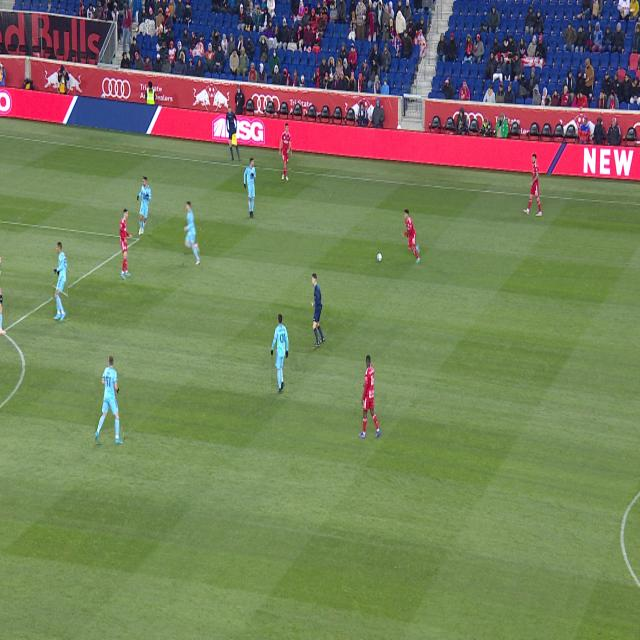football: (376, 253, 382, 261)
player: (96, 357, 123, 444), (359, 356, 381, 438), (271, 314, 289, 393), (523, 153, 542, 216), (54, 243, 68, 322), (184, 201, 200, 265), (402, 210, 420, 264), (137, 177, 152, 235), (120, 209, 132, 279), (244, 158, 256, 218), (280, 123, 291, 182), (0, 286, 6, 335)
referee: (311, 273, 325, 348)
